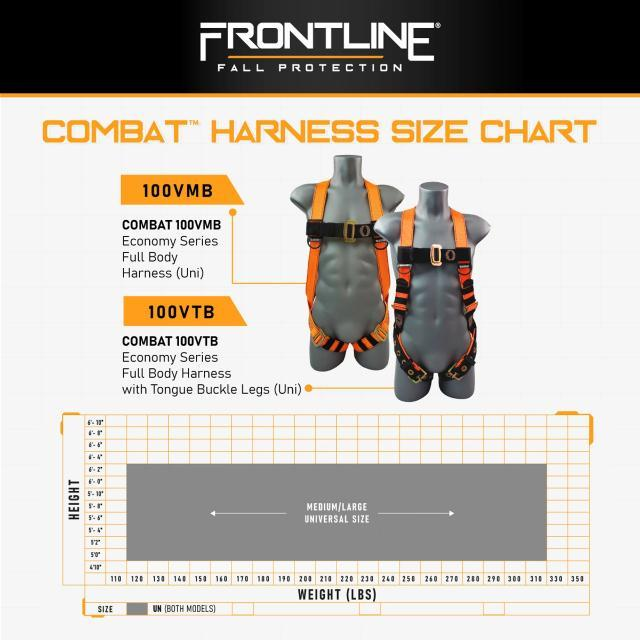belt: (302, 178, 396, 354), (391, 206, 482, 383)
